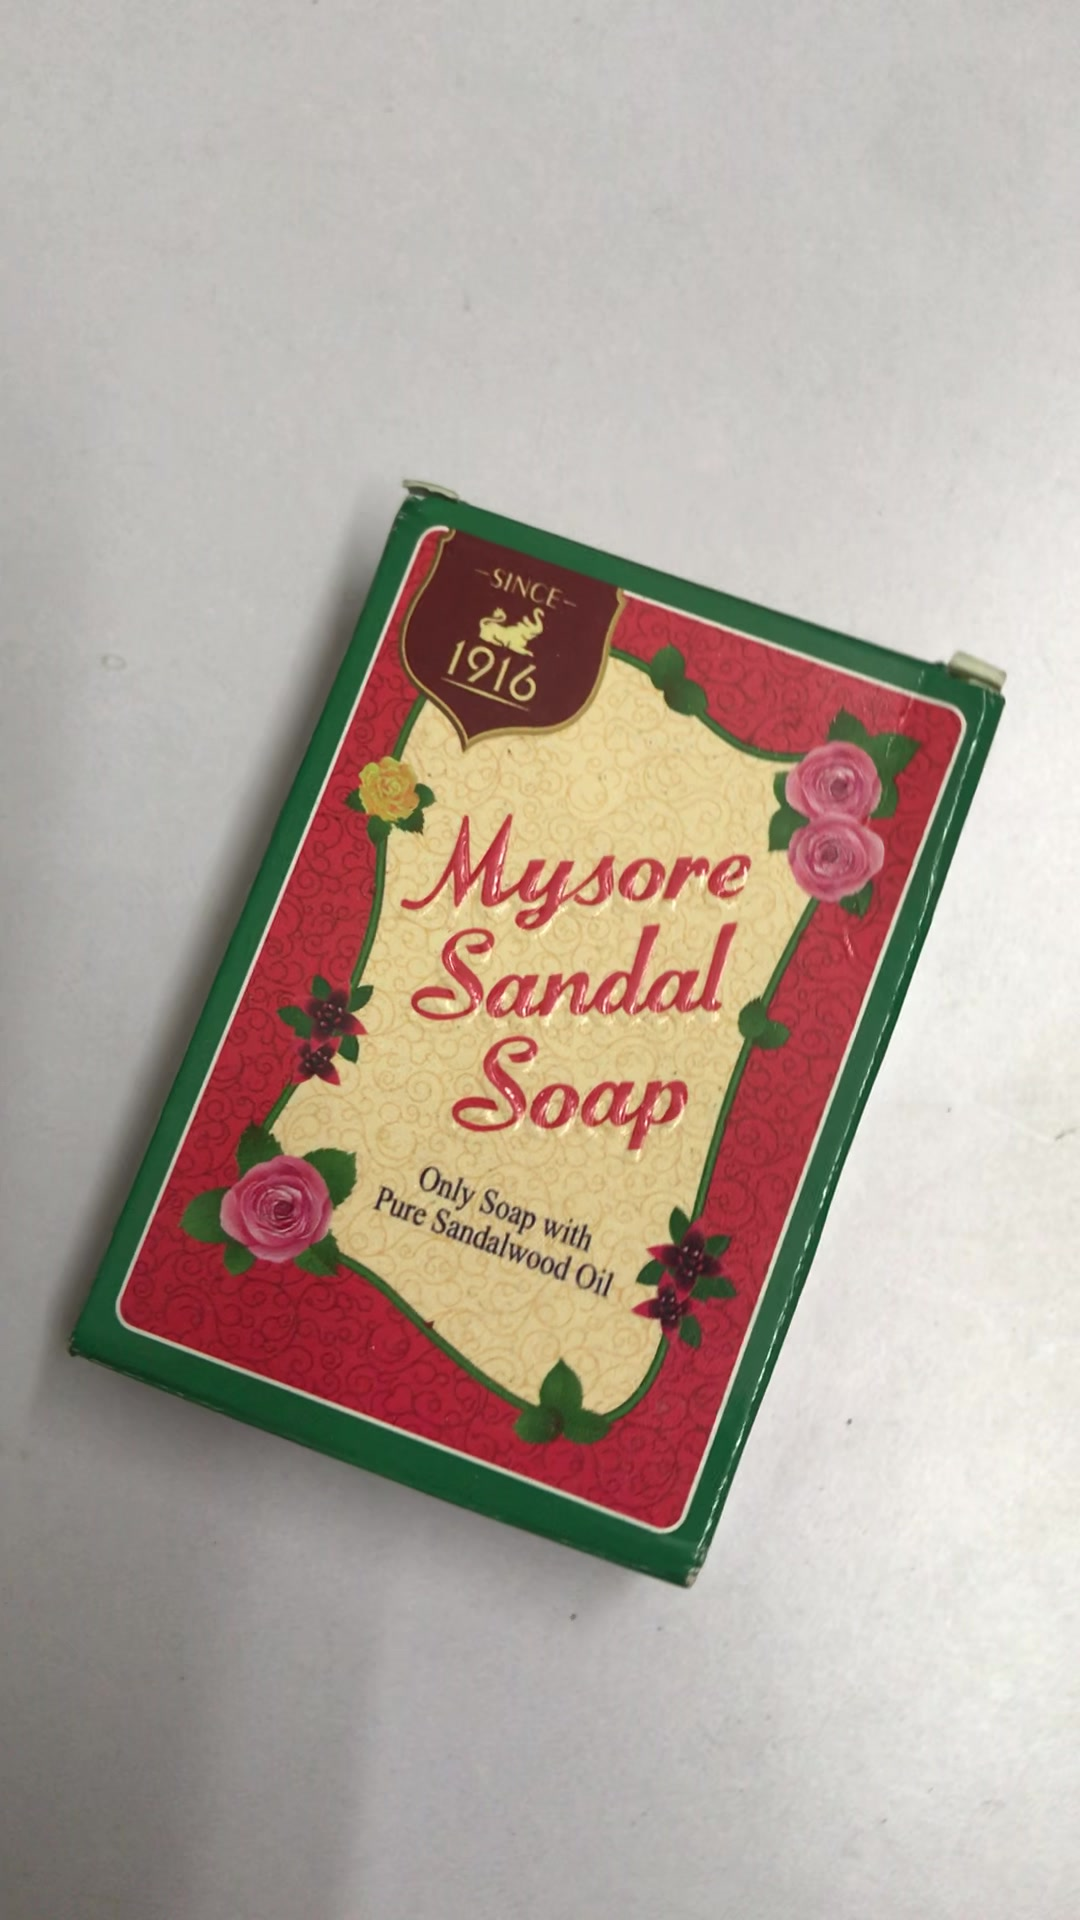mysore sandal soap: (63, 488, 1007, 1582)
